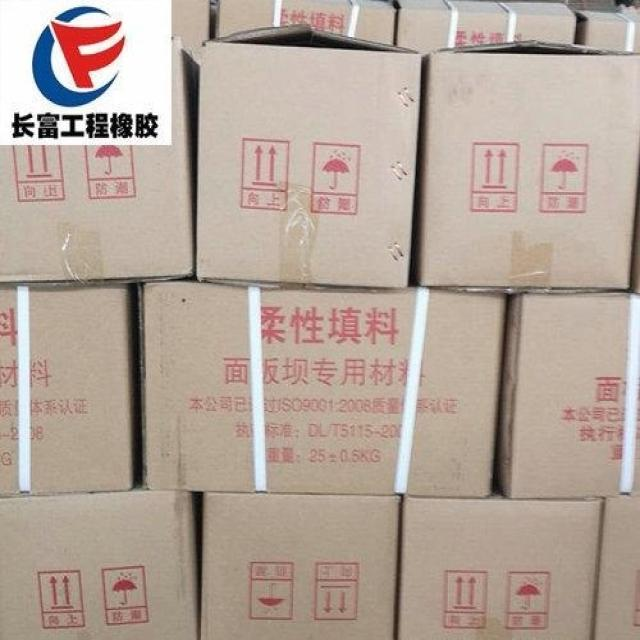box: (137, 276, 507, 498), (193, 21, 421, 289), (407, 38, 640, 294), (0, 40, 201, 282), (0, 481, 205, 640), (396, 486, 602, 639), (198, 492, 404, 640), (0, 282, 138, 496), (498, 292, 640, 498), (389, 0, 577, 51), (215, 0, 396, 47), (594, 496, 640, 640), (571, 10, 639, 53), (172, 0, 216, 65), (630, 162, 640, 293)
